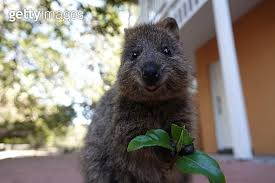quokka: (75, 13, 210, 183)
